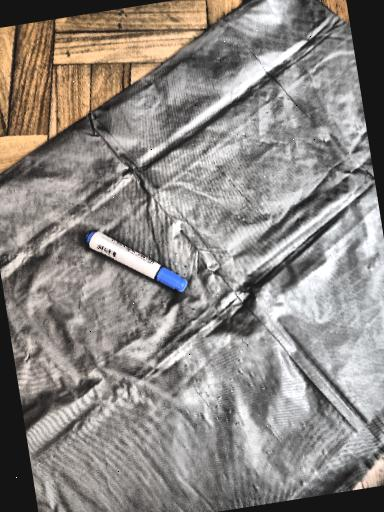marcador azul: (85, 230, 186, 291)
